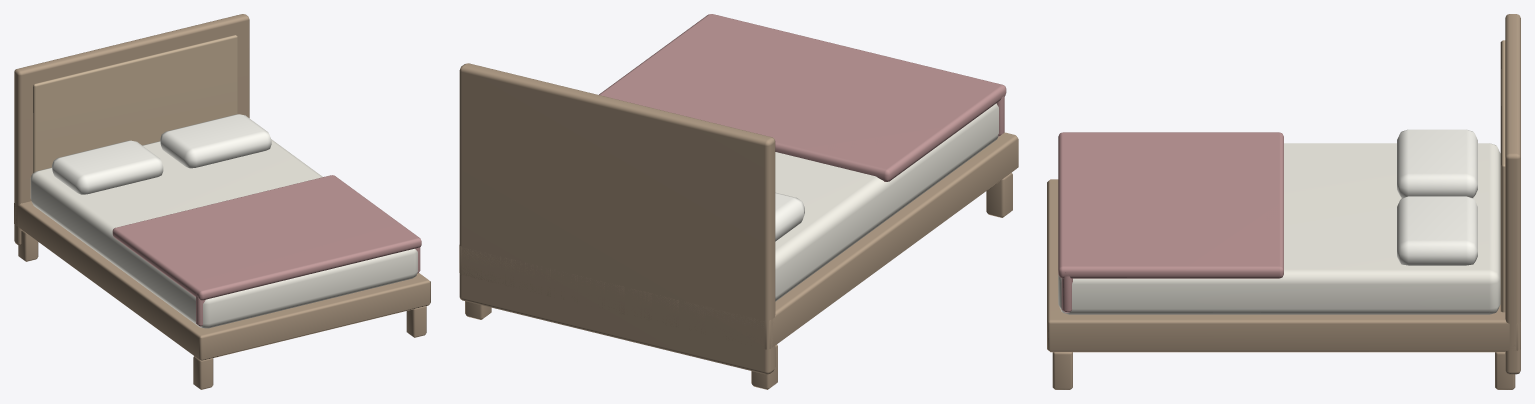
The model's file is bed.glb.
3 renders of one model, left to right at view 1: azimuth 30°, elevation 25°; view 2: azimuth 150°, elevation 25°; view 3: azimuth 270°, elevation 25°, orthographic. The views are drawn at different scales.
Visible parts, largest first — view 1: furn_bed; view 2: furn_bed; view 3: furn_bed.
Part boxes in pixels (x1=…): furn_bed: x1=14, y1=14, x2=430, y2=389; furn_bed: x1=459, y1=14, x2=1018, y2=389; furn_bed: x1=1047, y1=14, x2=1520, y2=389.
Bounding box in the file's own units: 1.5 × 1.16 × 2.1.
